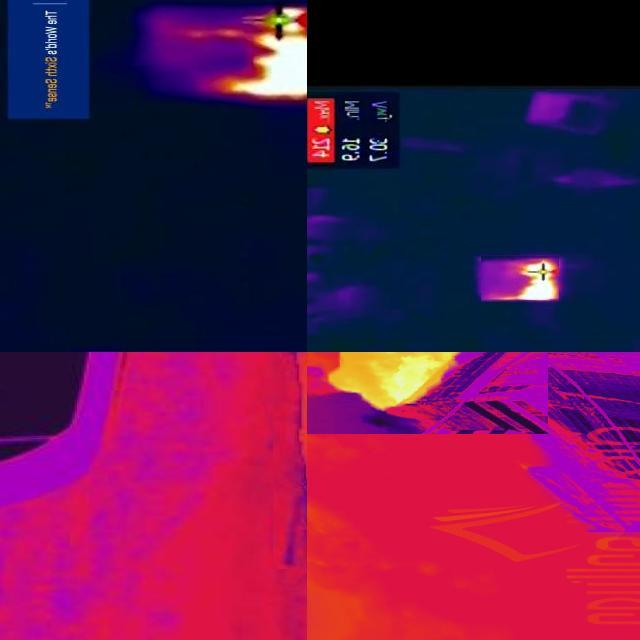fire: (205, 5, 308, 101), (323, 353, 469, 412), (482, 256, 560, 302)
